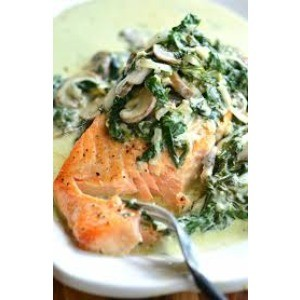salmon_brain food: (59, 43, 224, 249)
